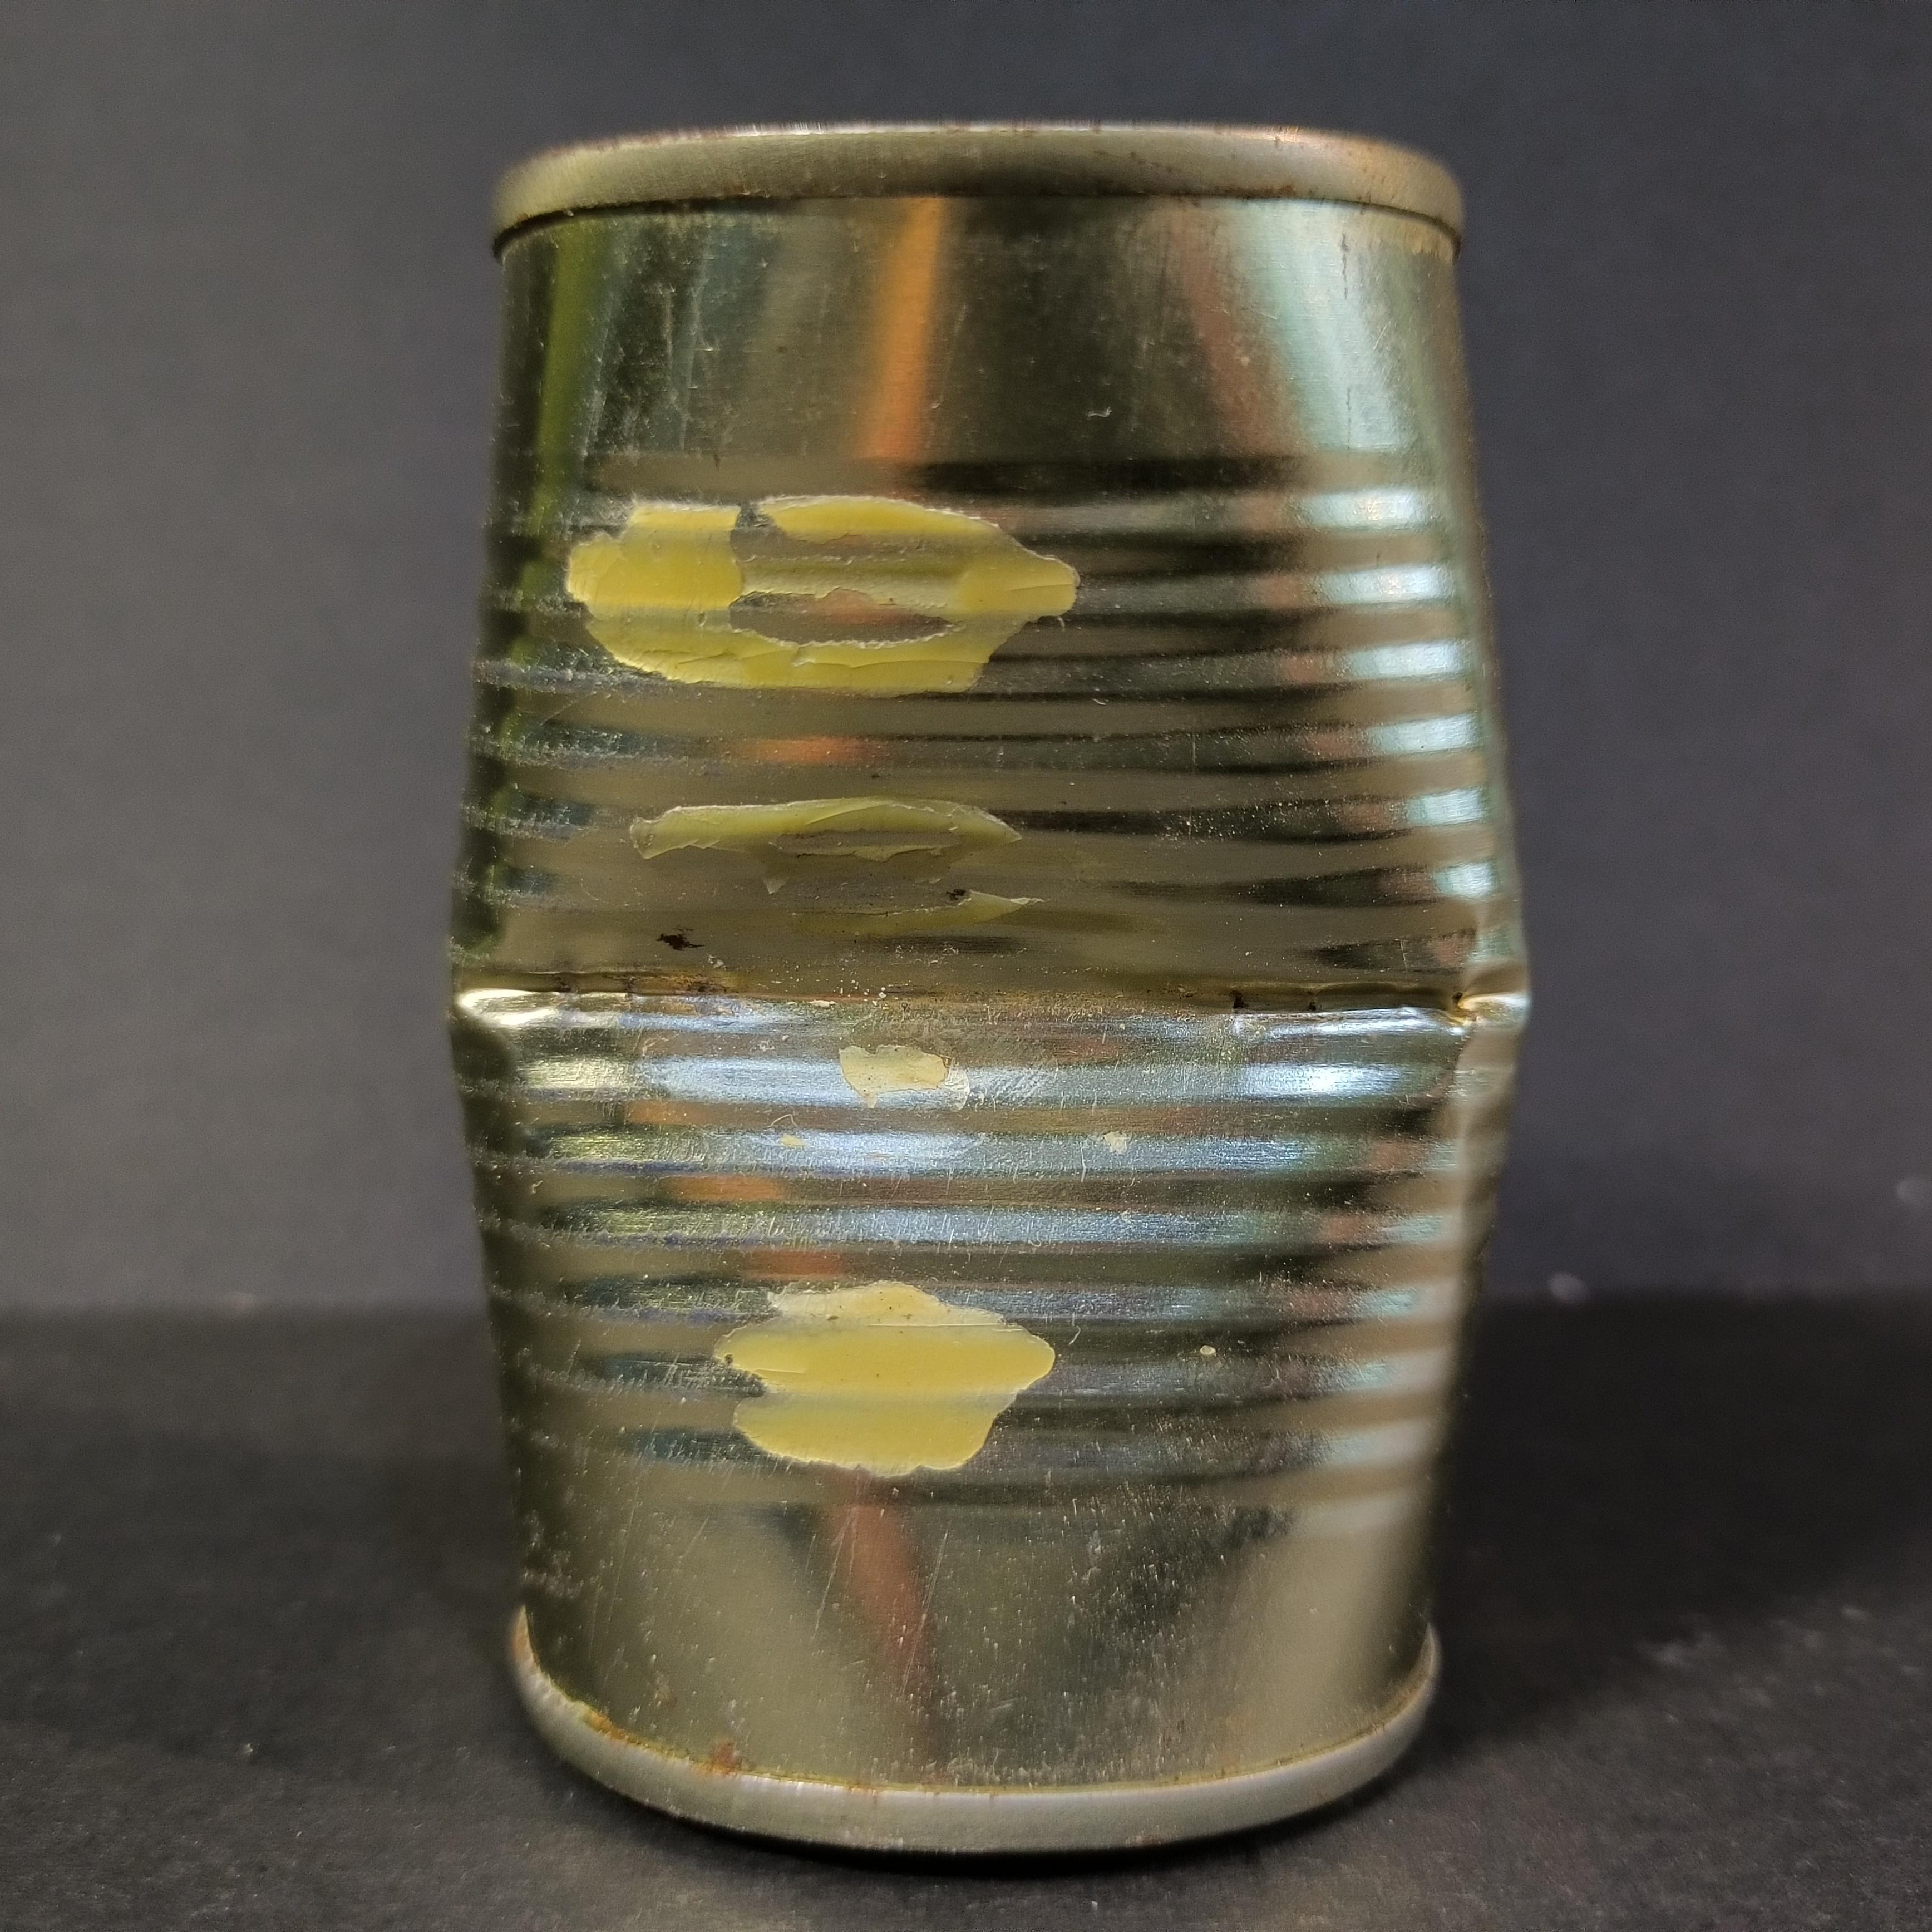Dented: (428, 81, 1555, 1918)
